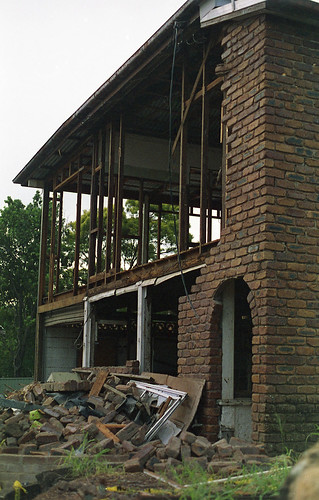building: (36, 1, 312, 448)
debris: (1, 373, 288, 469)
